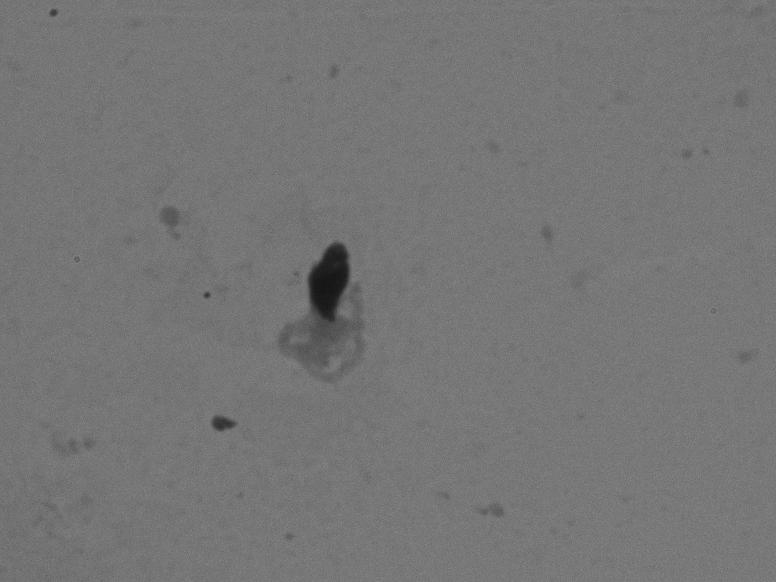Abnormal: (249, 205, 444, 432)
